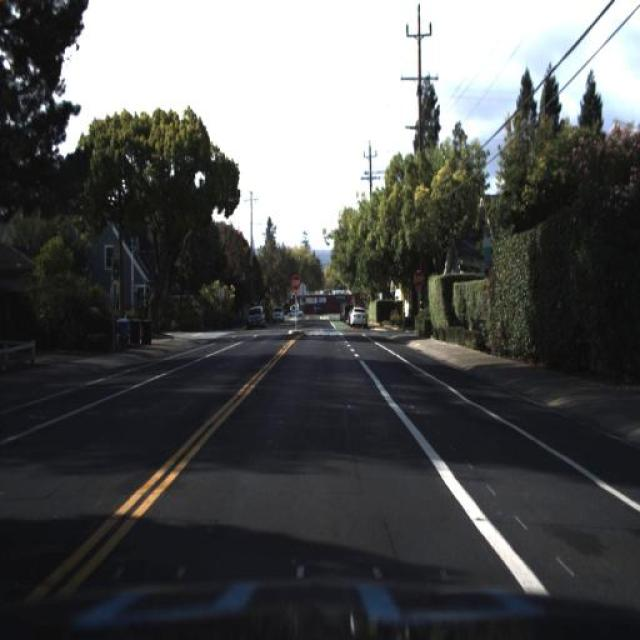car: (246, 298, 266, 328), (349, 305, 366, 329)
